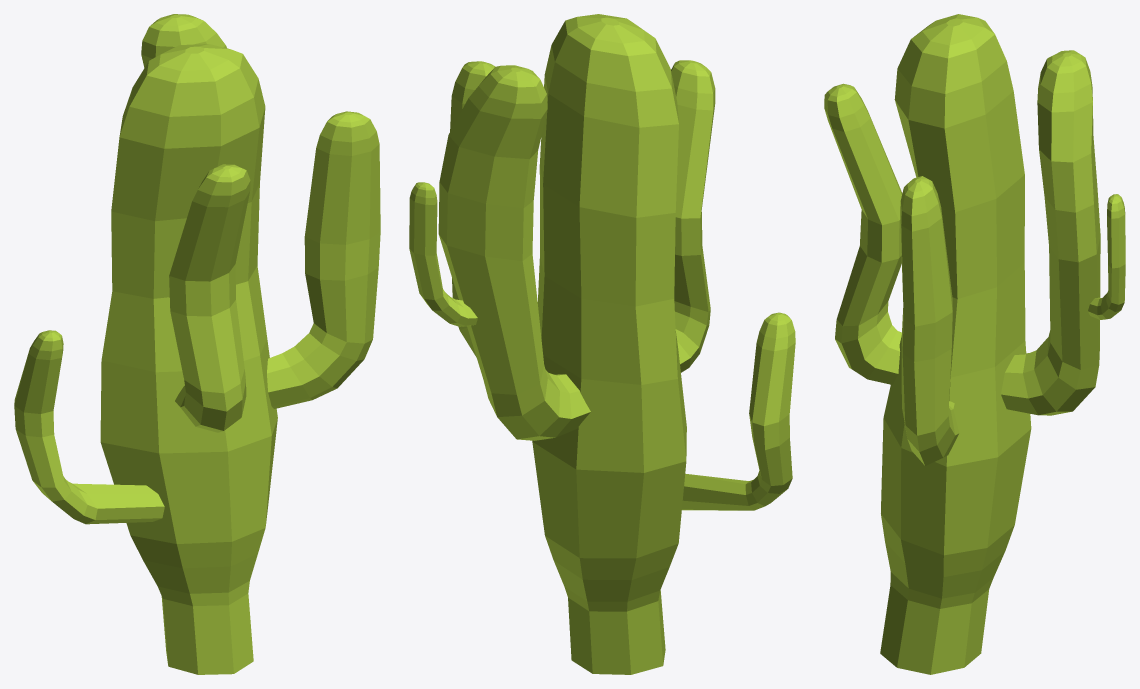
The model's file is Cactus 002.fbx.
3 renders of one model, left to right at view 1: azimuth 30°, elevation 25°; view 2: azimuth 150°, elevation 25°; view 3: azimuth 270°, elevation 25°, orthographic. The views are drawn at different scales.
Parts seen in each view (by area): view 1: Cactus 001; view 2: Cactus 001; view 3: Cactus 001.
Boxes of the visible parts, x1=… form: Cactus 001: x1=14, y1=14, x2=380, y2=674; Cactus 001: x1=409, y1=14, x2=795, y2=674; Cactus 001: x1=824, y1=14, x2=1125, y2=674.
Bounding box in the file's own units: 178 × 305 × 132.
